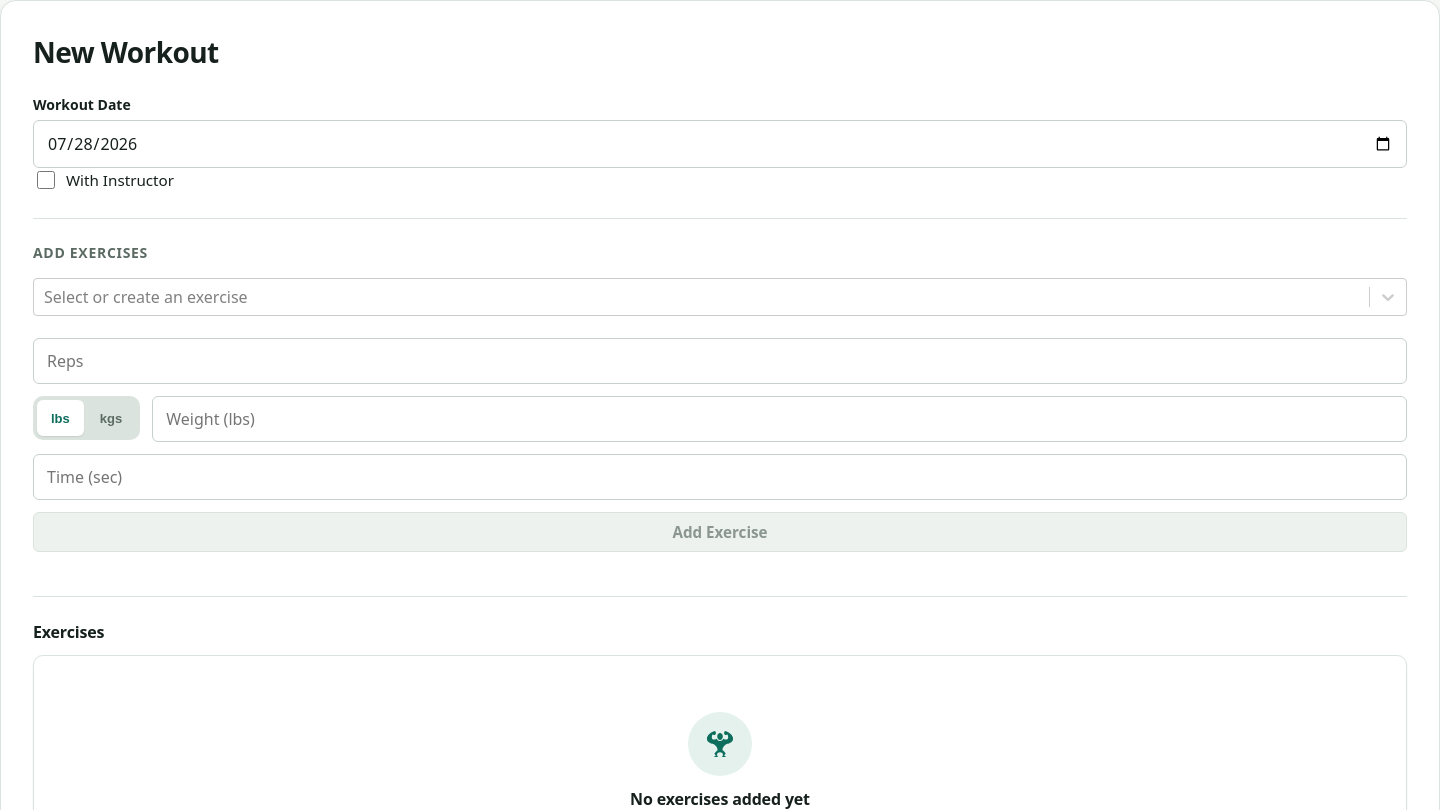
Test: WorkoutForm › weight unit toggle › converts weight value when switching from lbs to kgs
Type "100" into the number field with placeholder "Weight (lbs)" at (780, 419), box [152, 396, 1407, 442]
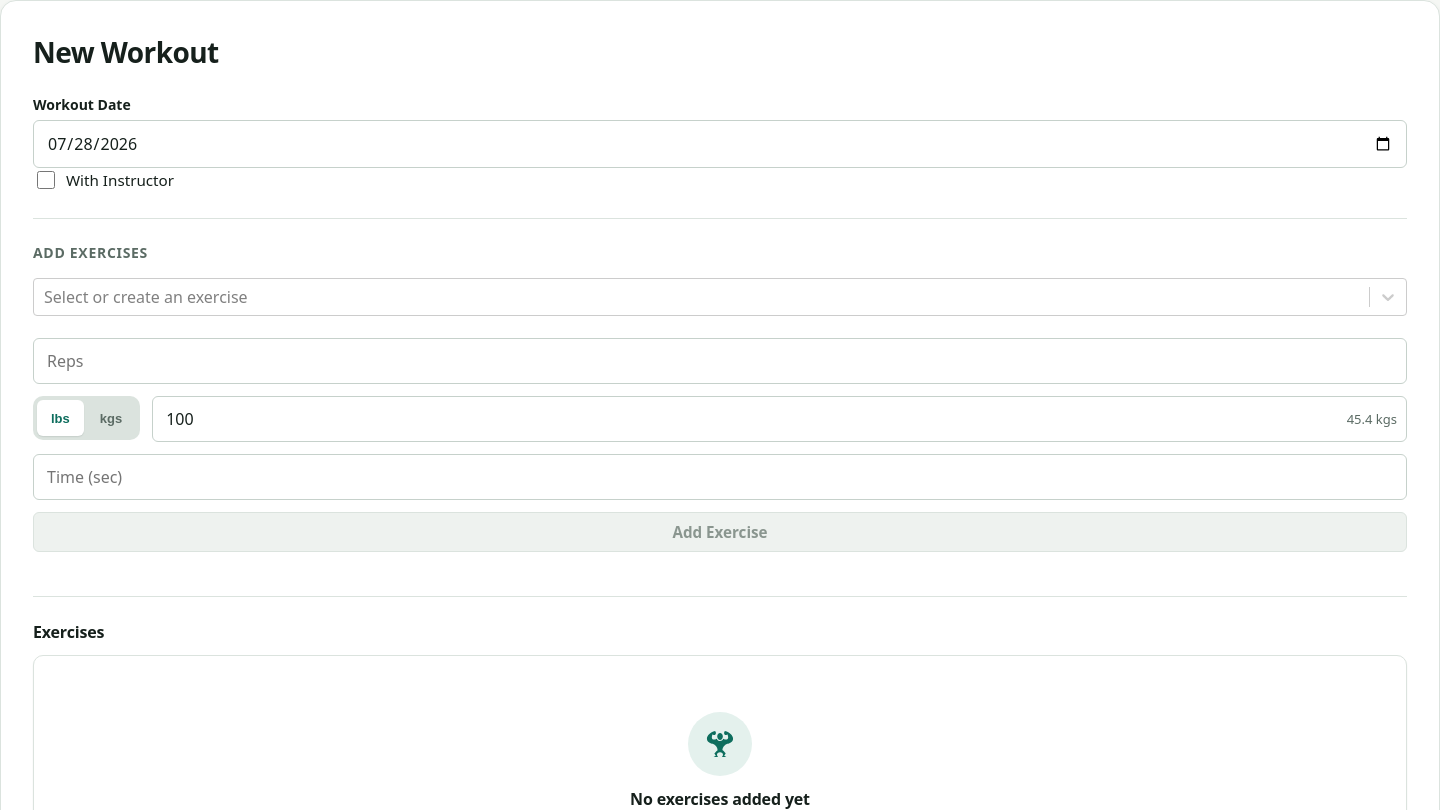
Click the button "kgs" at (111, 418), box [86, 400, 136, 436]
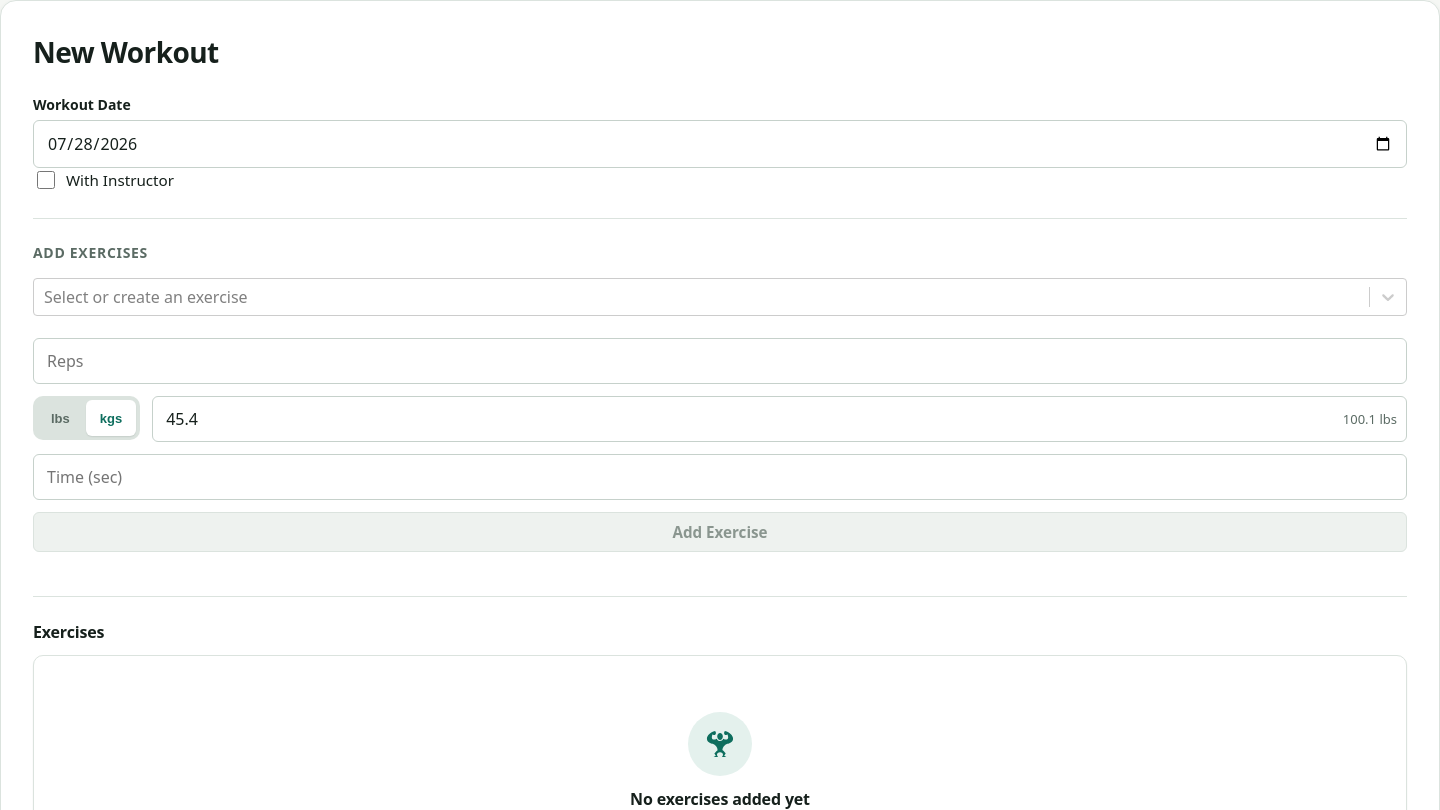
Check: the number field with placeholder "Weight (lbs)" holds "45.4", box [152, 396, 1407, 442]
